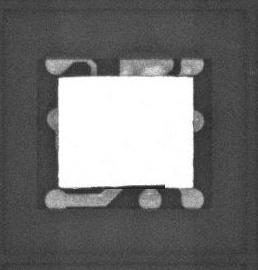DIE_BROKEN: (95, 182, 168, 190)
